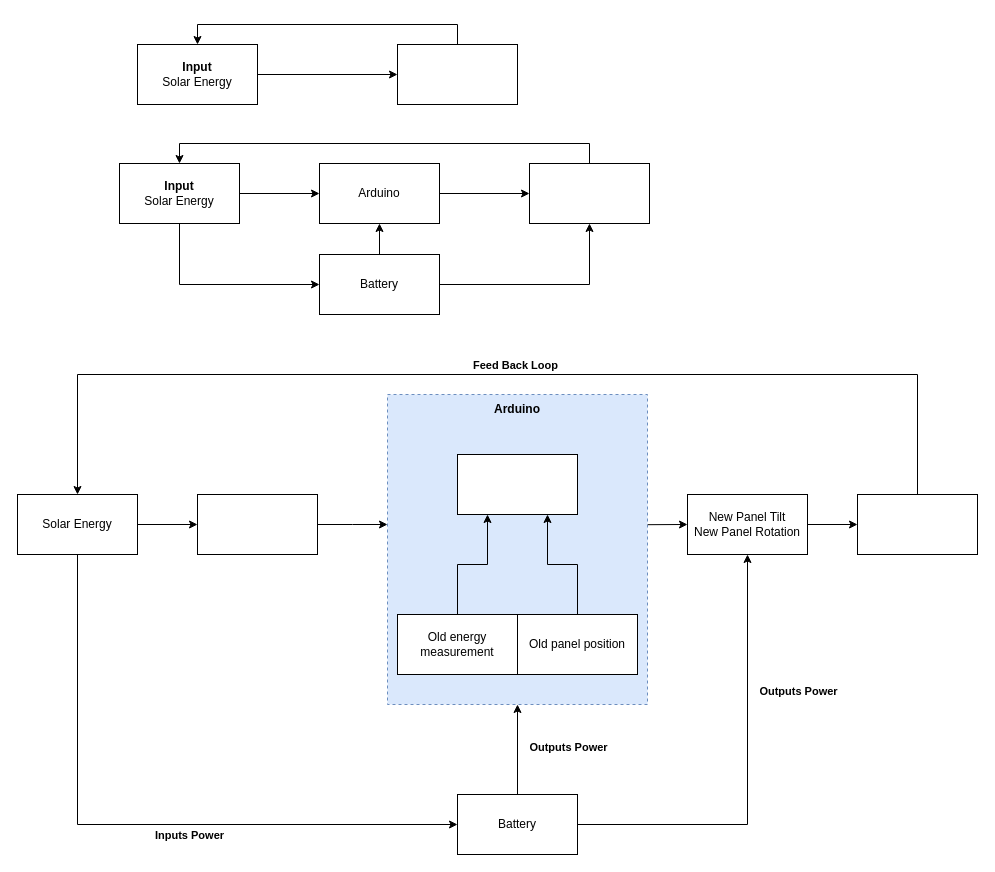
The diagram is 995 pixels wide and 872 high, and some of its shapes have lost their labels. Each missing label, with the centre of its shape:
Electricity Meter: (x=257, y=524)
Maximized Solar Energy: (x=917, y=524)
Output Panel Tilt Panel Rotation: (x=589, y=193)
Output Solar Panel Orientation: (x=457, y=74)
PID Controller: (x=517, y=484)
